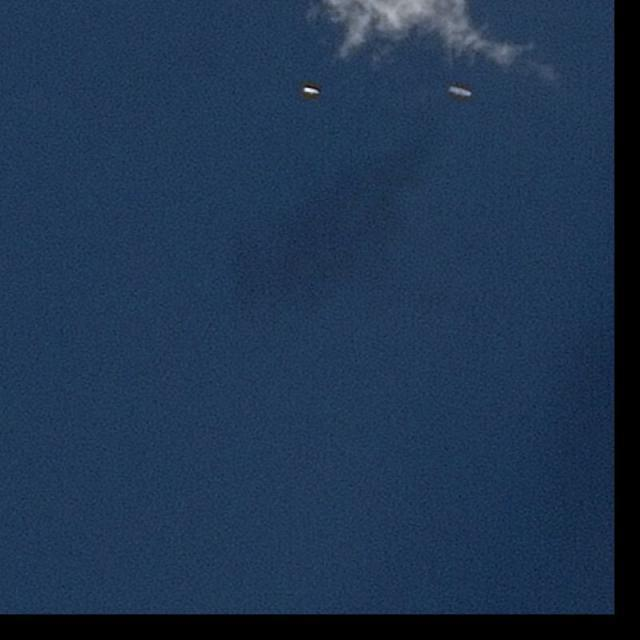ship: (450, 82, 473, 101), (301, 86, 319, 94)
